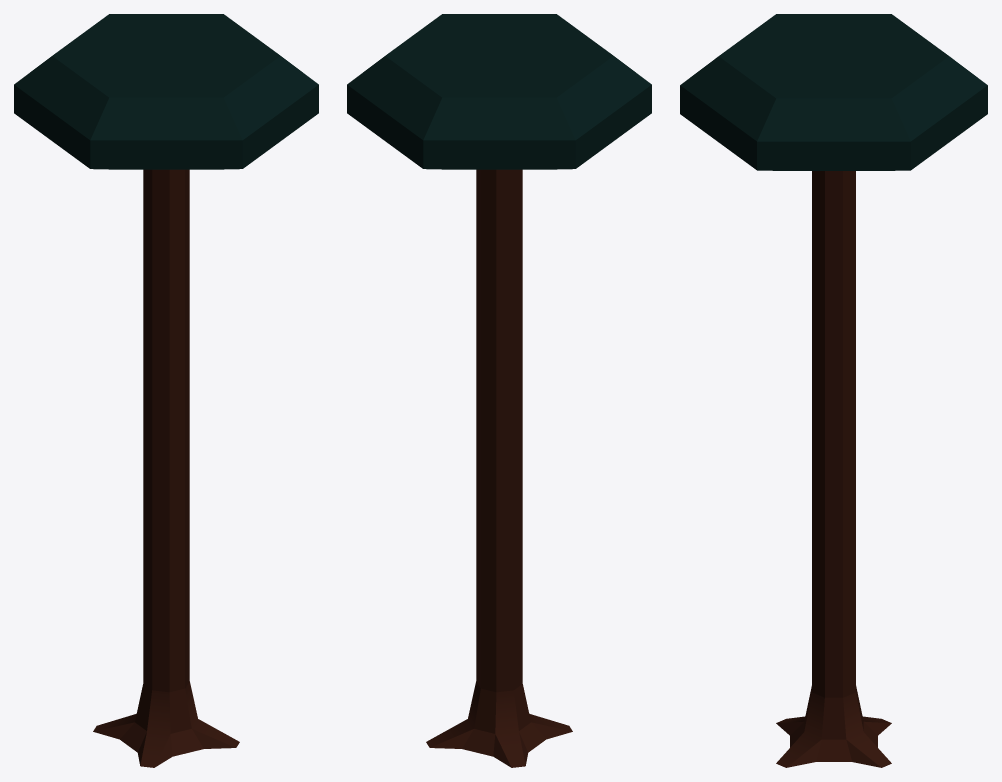
The model's file is LongTree2.fbx.
3 views of the same model, side by side, from view 1: azimuth 30°, elevation 25°; view 2: azimuth 150°, elevation 25°; view 3: azimuth 270°, elevation 25° (orthographic).
Parts seen in each view (by area): view 1: mergedBlocks; view 2: mergedBlocks; view 3: mergedBlocks.
Part boxes in pixels (left/top/right/bottom): mergedBlocks: left=14, top=14, right=318, bottom=767; mergedBlocks: left=347, top=14, right=651, bottom=767; mergedBlocks: left=680, top=14, right=987, bottom=767.
Size of the model in its own units: 22 by 62.6 by 25.4.
